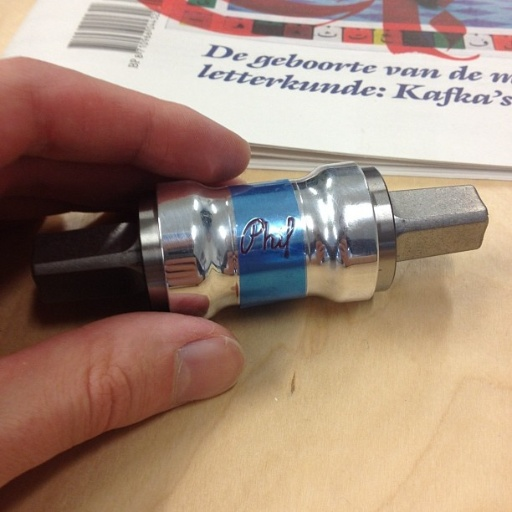hand: (0, 51, 250, 491)
